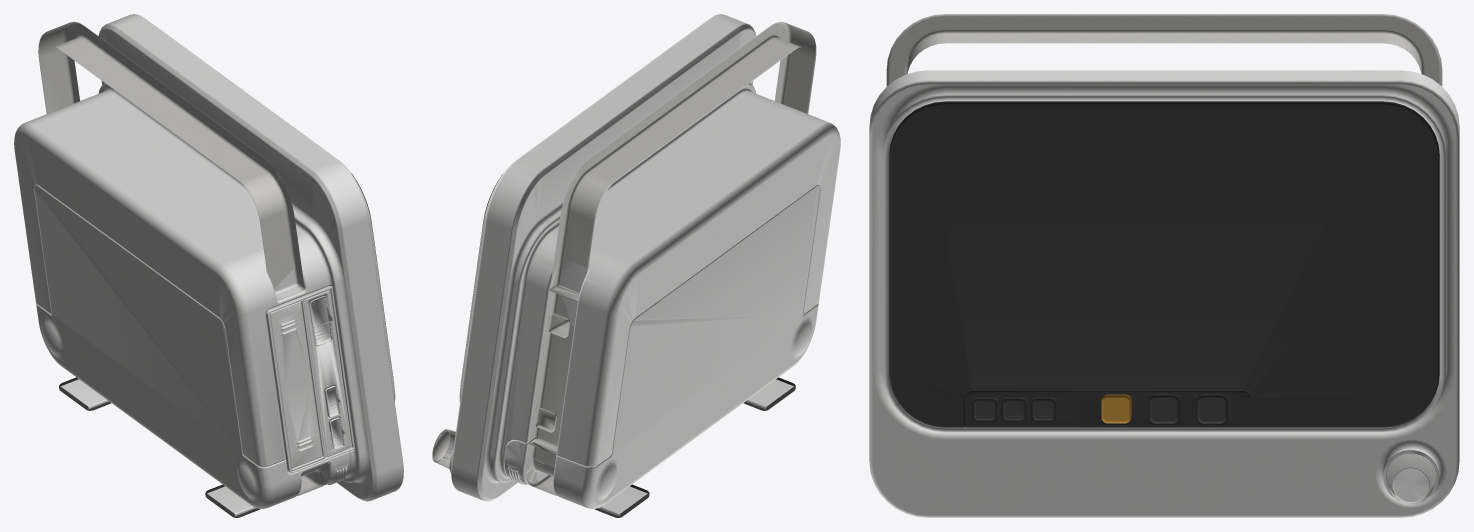
Rendered from monitor.glb.
3 views of the same model, side by side, from view 1: azimuth 30°, elevation 25°; view 2: azimuth 150°, elevation 25°; view 3: azimuth 270°, elevation 25° (orthographic). The views are drawn at different scales.
Visible parts, largest first — view 1: sm_monitor_a01_01; view 2: sm_monitor_a01_01; view 3: sm_monitor_a01_01.
Part boxes in pixels (x1=…): sm_monitor_a01_01: x1=14, y1=14, x2=403, y2=517; sm_monitor_a01_01: x1=432, y1=14, x2=840, y2=517; sm_monitor_a01_01: x1=869, y1=14, x2=1459, y2=517.
Bounding box in the file's own units: 0.0748 × 0.1326 × 0.1643.
19 materials, 18 textured.
